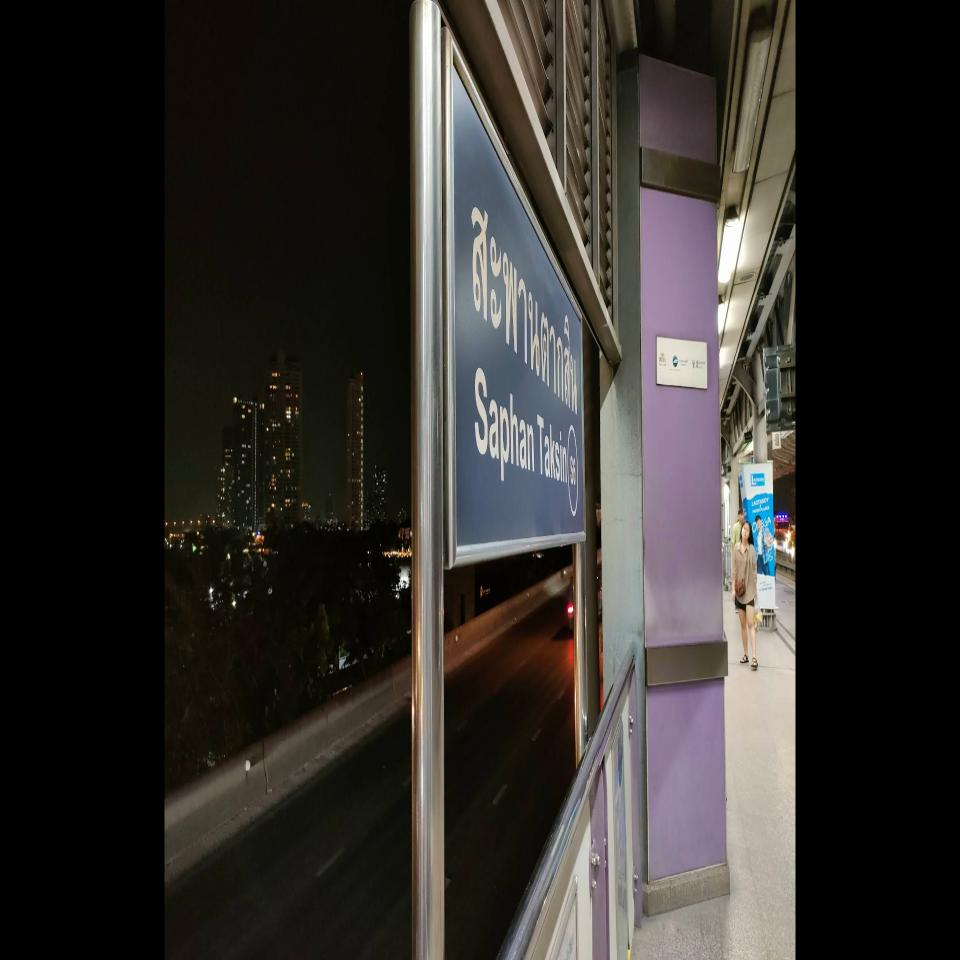Saphan Taksin: (441, 23, 586, 569)
